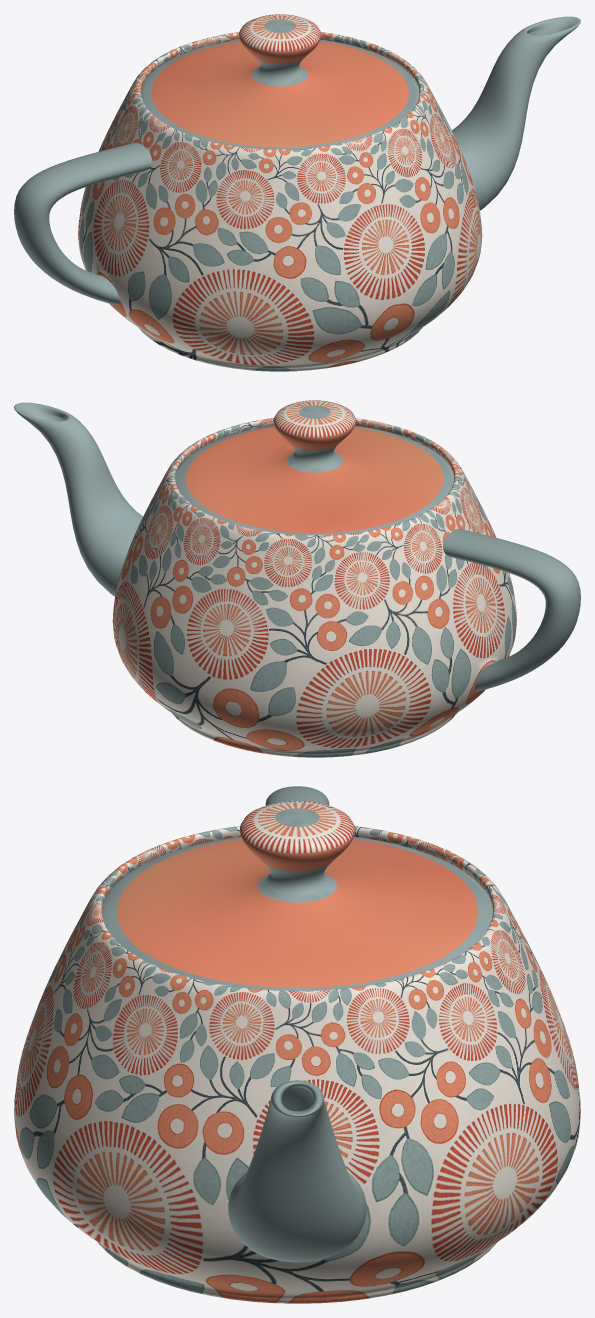
The picture shows the model from 3 angles, top to bottom: view 1: azimuth 30°, elevation 25°; view 2: azimuth 150°, elevation 25°; view 3: azimuth 270°, elevation 25°; orthographic projection. The views are drawn at different scales.
Visible parts, largest first — view 1: Teapot_0; view 2: Teapot_0; view 3: Teapot_0.
Part boxes in pixels (bbox=[...]): Teapot_0: bbox=[14, 14, 580, 371]; Teapot_0: bbox=[14, 400, 580, 757]; Teapot_0: bbox=[14, 786, 580, 1303].
Size of the model in its own units: 6.43 by 3.2 by 4.
1 material, 1 textured.
